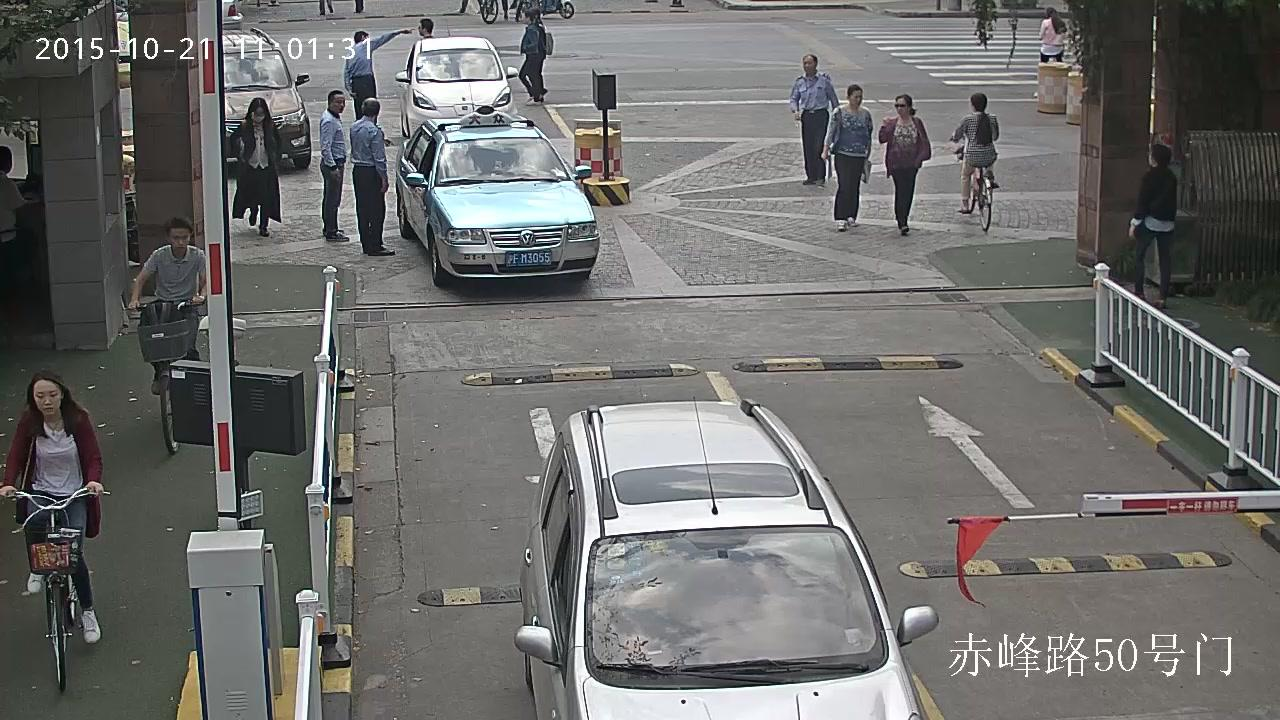person: (0, 369, 111, 692), (0, 369, 103, 643), (124, 216, 206, 455), (127, 215, 206, 395), (1128, 144, 1177, 309), (821, 84, 873, 231), (229, 95, 283, 235), (879, 94, 931, 235), (349, 96, 395, 255), (343, 27, 416, 125), (949, 92, 999, 233), (0, 145, 38, 326), (789, 53, 839, 185), (951, 92, 999, 212), (319, 89, 349, 240), (1032, 7, 1066, 98), (518, 9, 542, 105), (530, 8, 553, 96), (318, 0, 334, 17)
